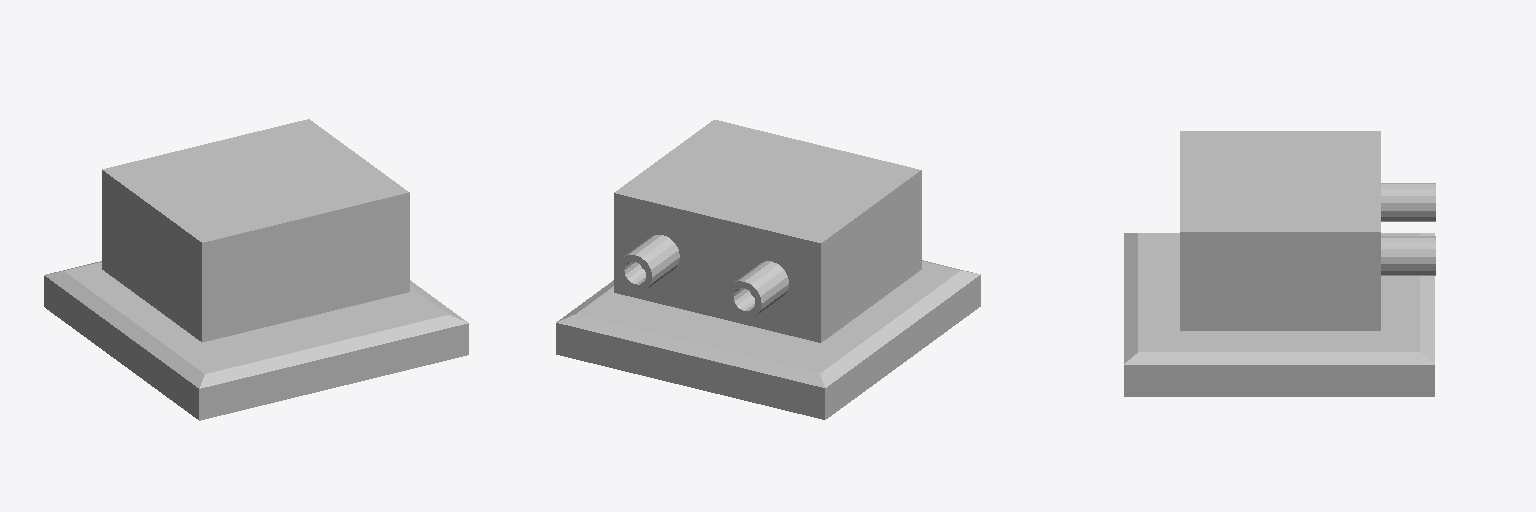
The model's file is TowerTest.obj.
3 views of the same model, side by side, from view 1: azimuth 30°, elevation 25°; view 2: azimuth 150°, elevation 25°; view 3: azimuth 270°, elevation 25° (orthographic).
Visible parts, largest first — view 1: Cube.002_Cube.008, Cube_Cube.006; view 2: Cube.002_Cube.008, Cube_Cube.006; view 3: Cube.002_Cube.008, Cube_Cube.006.
Part boxes in pixels (bbox=[...]): Cube.002_Cube.008: bbox=[102, 119, 409, 342]; Cube_Cube.006: bbox=[44, 261, 468, 420]; Cube.002_Cube.008: bbox=[614, 120, 921, 342]; Cube_Cube.006: bbox=[556, 260, 980, 419]; Cube.002_Cube.008: bbox=[1180, 131, 1435, 330]; Cube_Cube.006: bbox=[1124, 233, 1434, 396].
Size of the model in its own units: 2 by 1.06 by 2.01.